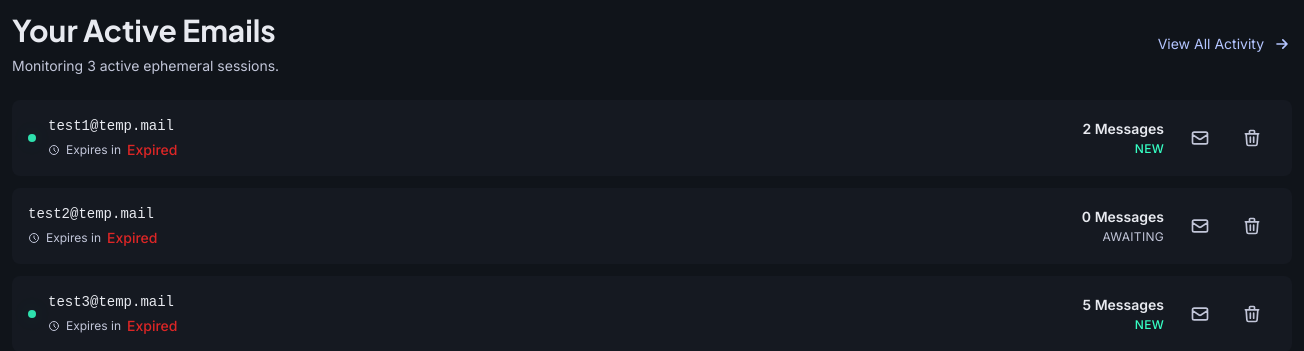
Test: EmailList › delete button and confirmation › should show confirmation buttons when delete is clicked
The image size is (1304, 351).
Click the 1st button named "Delete email": (1254, 138) [1232,116,1276,160]
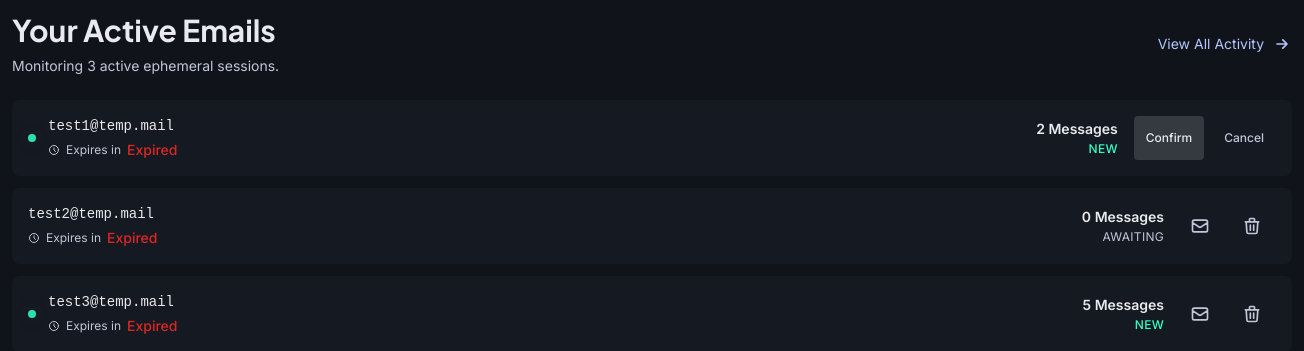
Expected: the button "Confirm" is shown, [1134,116,1204,160]
Expected: the button "Cancel" is shown, [1212,116,1276,160]
